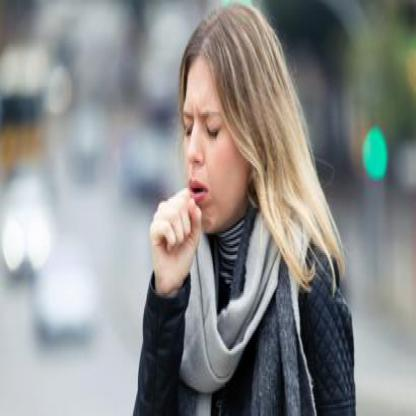Wearing_Mask: (172, 43, 260, 246)
